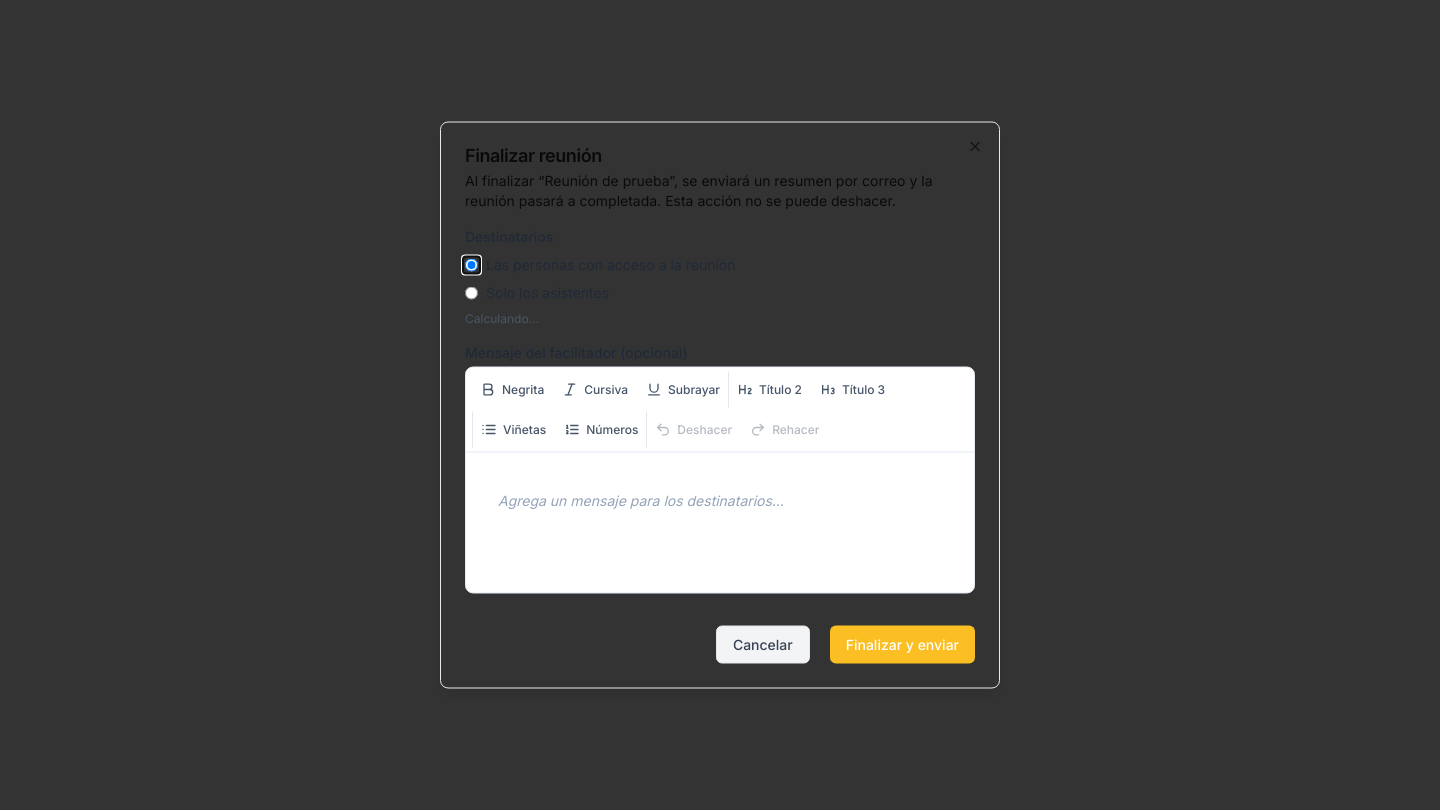
Test: FinalizeMeetingDialog › selecting "attended" updates the selection
Click the radio button labelled "Solo los asistentes" at (472, 293), box x1=465 y1=286 x2=478 y2=300
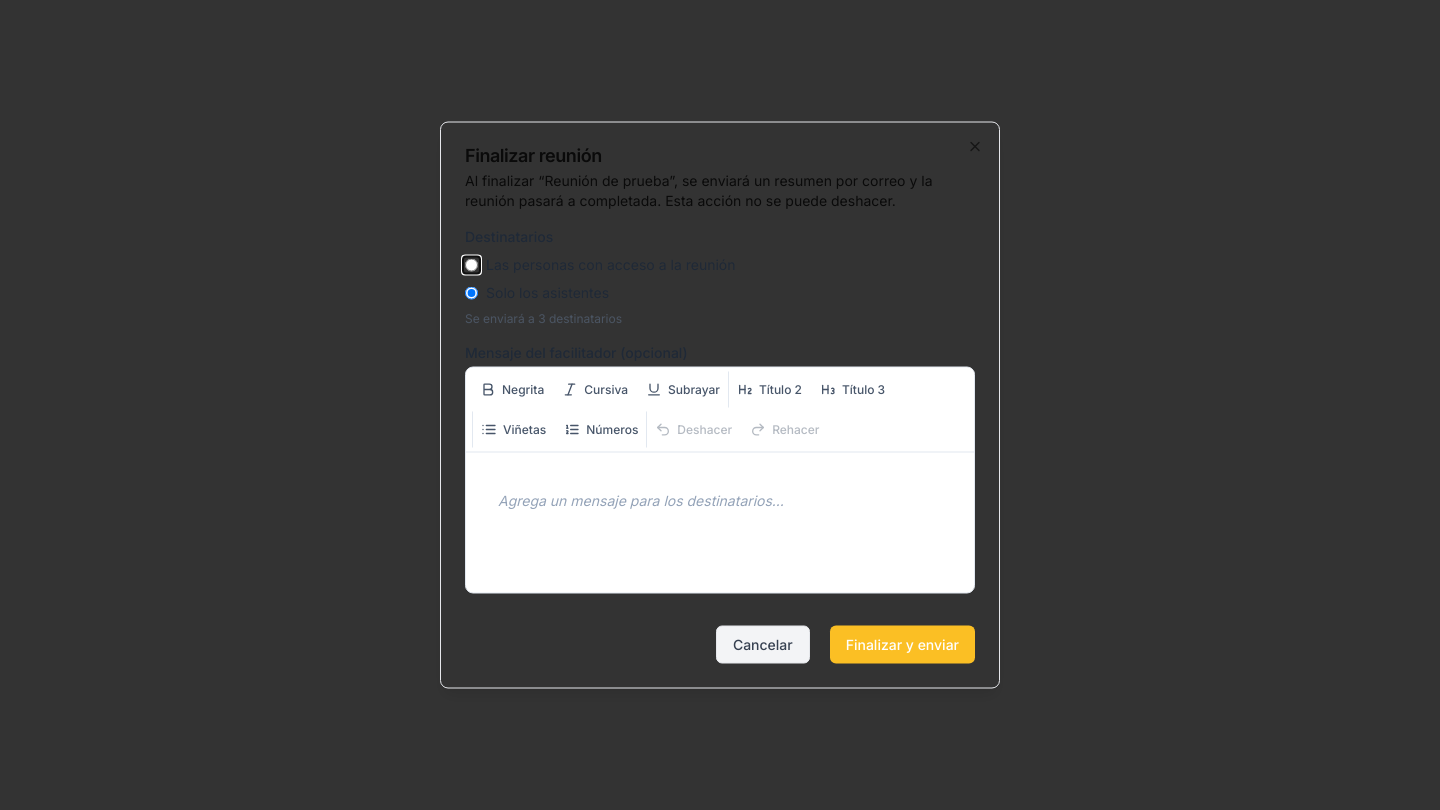
Expected: the radio button labelled "Solo los asistentes" is checked, x1=465 y1=286 x2=478 y2=300
Expected: the radio button labelled "Las personas con acceso a la reunión" is not checked, x1=465 y1=258 x2=478 y2=272
